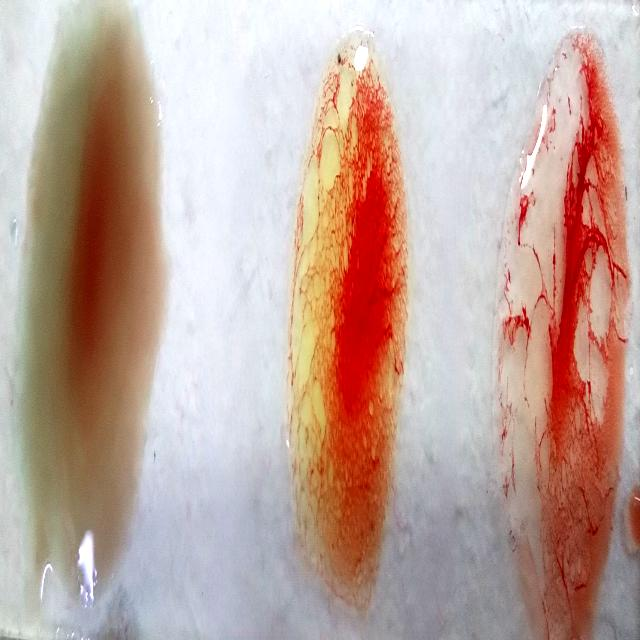B: (289, 44, 403, 616)
D: (496, 45, 630, 620)
